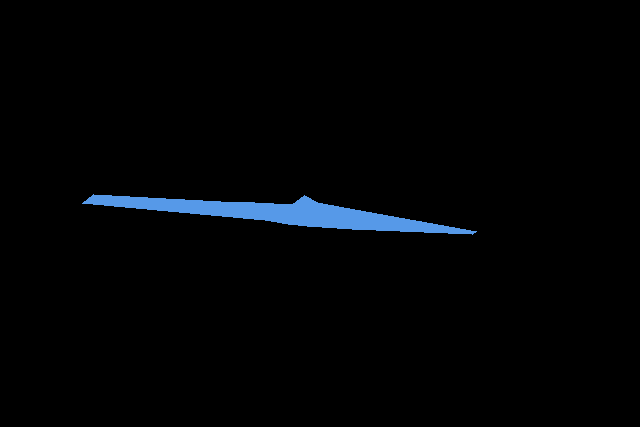Airplane: (82, 194, 477, 235)
